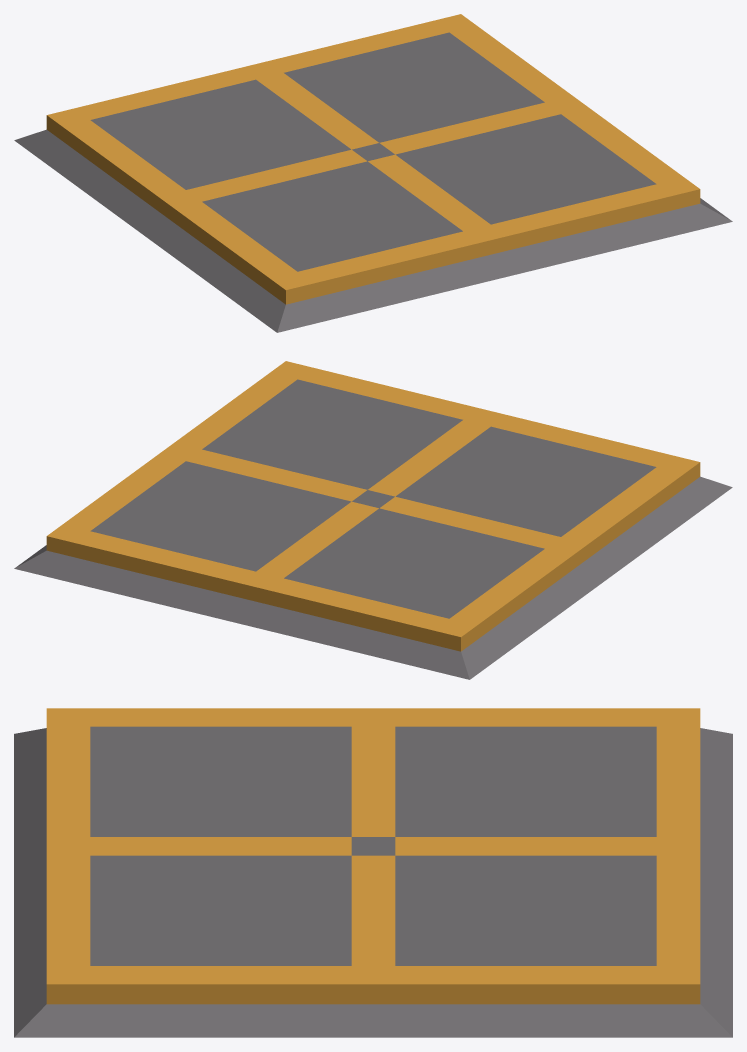
The model's file is scifi_pad.fbx.
3 views of the same model, one above another, from view 1: azimuth 30°, elevation 25°; view 2: azimuth 150°, elevation 25°; view 3: azimuth 270°, elevation 25° (orthographic). The views are drawn at different scales.
Visible parts, largest first — view 1: Cube.059; view 2: Cube.059; view 3: Cube.059.
Part boxes in pixels (x1,y1,x2,y2): Cube.059: (14,14,732,332); Cube.059: (14,361,732,679); Cube.059: (14,708,732,1037).
Size of the model in its own units: 3.3 by 0.2 by 3.3.
